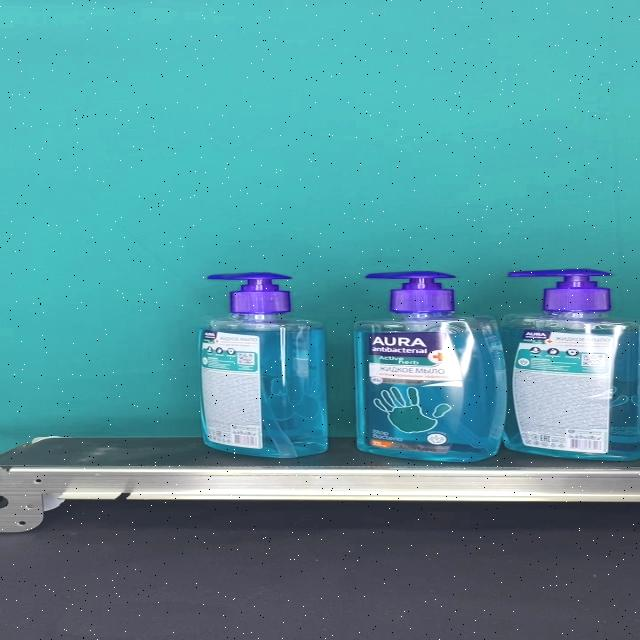Bottle: (353, 272, 506, 462), (501, 270, 640, 461), (192, 273, 328, 458)
Cap: (508, 270, 612, 313), (365, 272, 455, 313), (206, 273, 292, 314)
